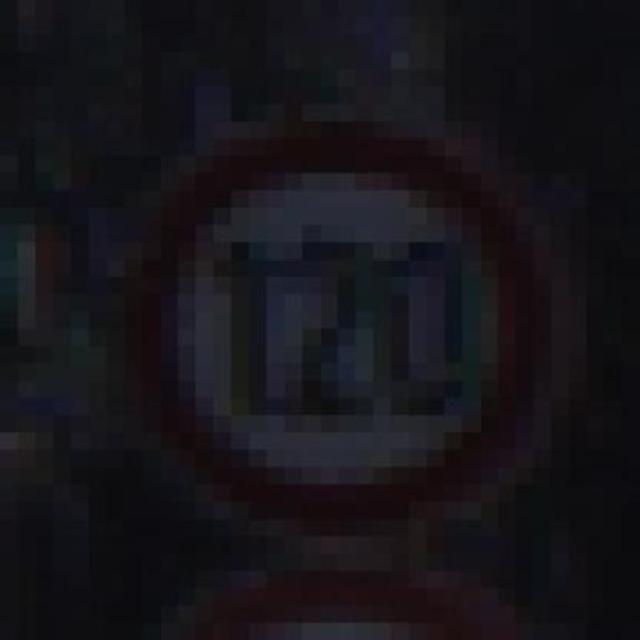forb_speed_over_120: (146, 129, 546, 529)
